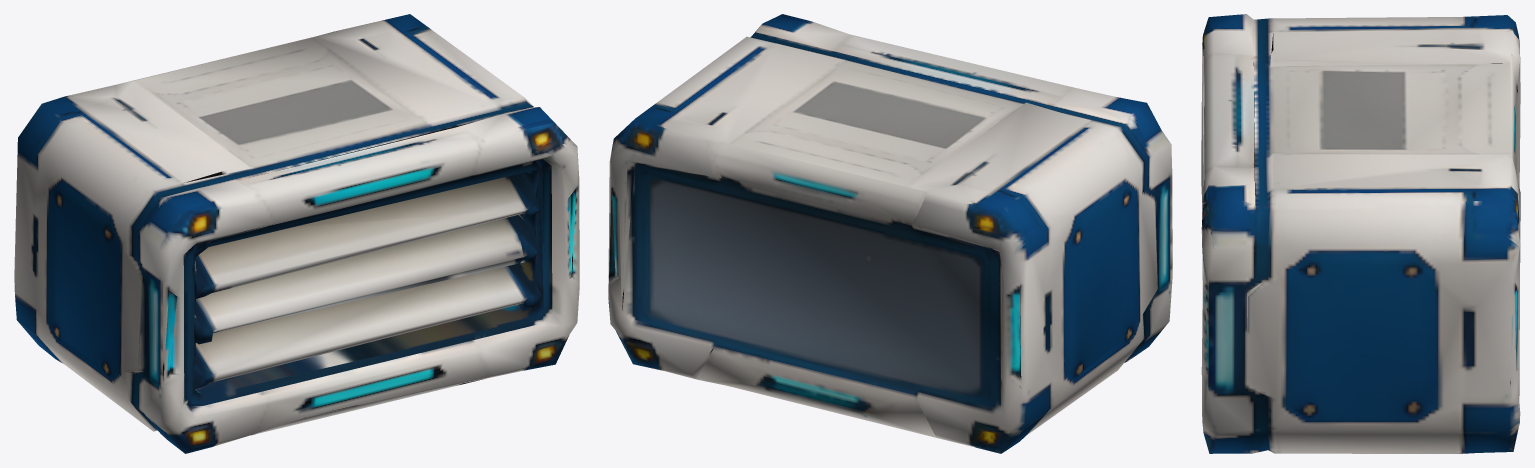
File: cryo-ventilation-unit_LOD1.glb
The picture shows the model from 3 angles, left to right: view 1: azimuth 30°, elevation 25°; view 2: azimuth 150°, elevation 25°; view 3: azimuth 270°, elevation 25°; orthographic projection. The views are drawn at different scales.
Parts seen in each view (by area): view 1: cryo-ventilation-unit_LOD1; view 2: cryo-ventilation-unit_LOD1; view 3: cryo-ventilation-unit_LOD1.
Boxes of the visible parts, <box> form: cryo-ventilation-unit_LOD1: <box>14,14,579,453</box>; cryo-ventilation-unit_LOD1: <box>608,14,1172,453</box>; cryo-ventilation-unit_LOD1: <box>1201,14,1520,453</box>.
Size of the model in its own units: 1.26 by 0.6911 by 0.785.
Materials: 1 (1 with a texture image).
